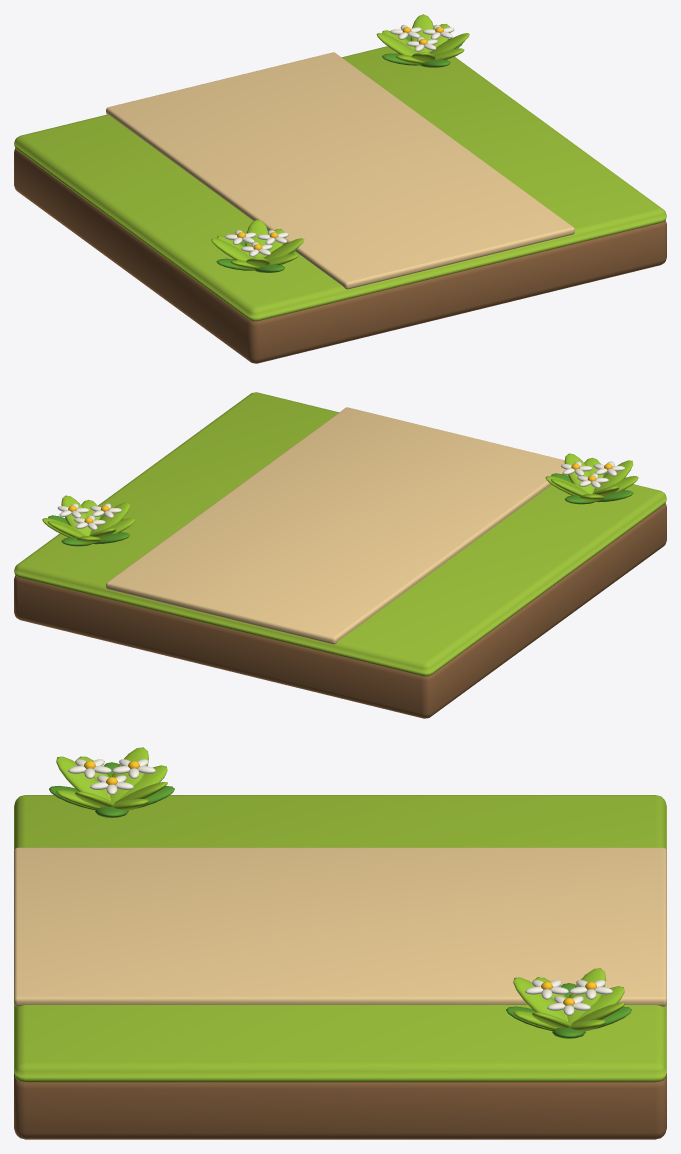
File: path_straight.glb
3 views of the same model, one above another, from view 1: azimuth 30°, elevation 25°; view 2: azimuth 150°, elevation 25°; view 3: azimuth 270°, elevation 25° (orthographic). The views are drawn at different scales.
Parts seen in each view (by area): view 1: path_straight; view 2: path_straight; view 3: path_straight.
Boxes of the visible parts, x1,y1,x2,y2 form: path_straight: (14,14,666,363); path_straight: (14,392,666,718); path_straight: (14,747,666,1139).
Size of the model in its own units: 2 by 0.4329 by 2.
